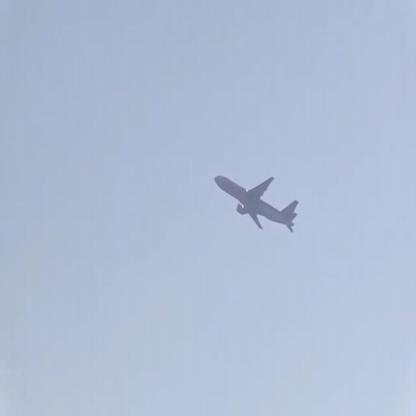CIV_Plane: (214, 176, 300, 233)
